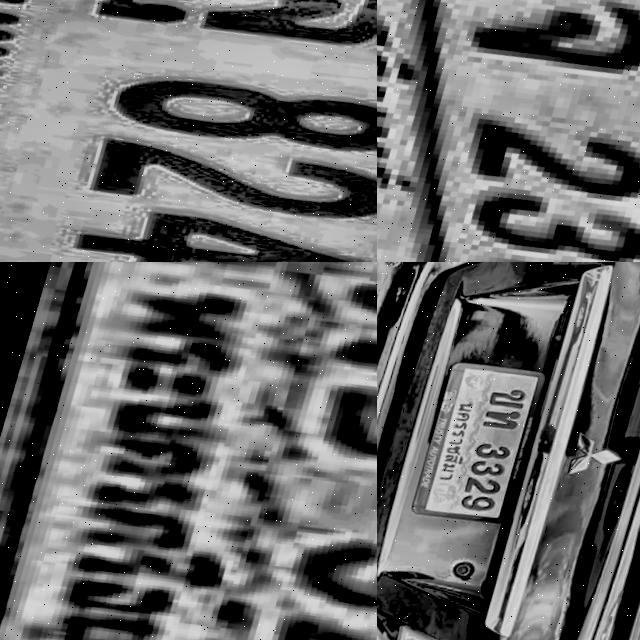license-plate: (0, 262, 377, 640), (0, 0, 377, 262), (377, 0, 640, 262), (412, 356, 560, 542)
